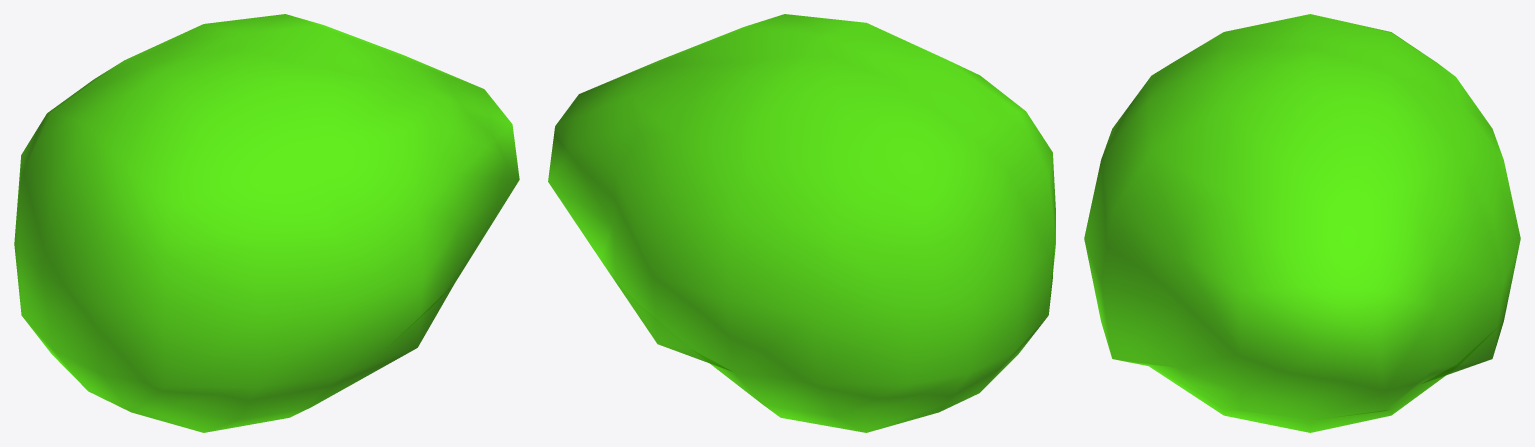
Rendered from projectile_-_jelly_ball.glb.
The picture shows the model from 3 angles, left to right: view 1: azimuth 30°, elevation 25°; view 2: azimuth 150°, elevation 25°; view 3: azimuth 270°, elevation 25°; orthographic projection. The views are drawn at different scales.
Parts seen in each view (by area): view 1: Bolita radioactiva; view 2: Bolita radioactiva; view 3: Bolita radioactiva.
Part boxes in pixels (left/top/right/bottom): Bolita radioactiva: left=14, top=14, right=519, bottom=432; Bolita radioactiva: left=548, top=14, right=1055, bottom=432; Bolita radioactiva: left=1084, top=14, right=1520, bottom=432.
Bounding box in the file's own units: 69.37 × 53.74 × 54.57.
